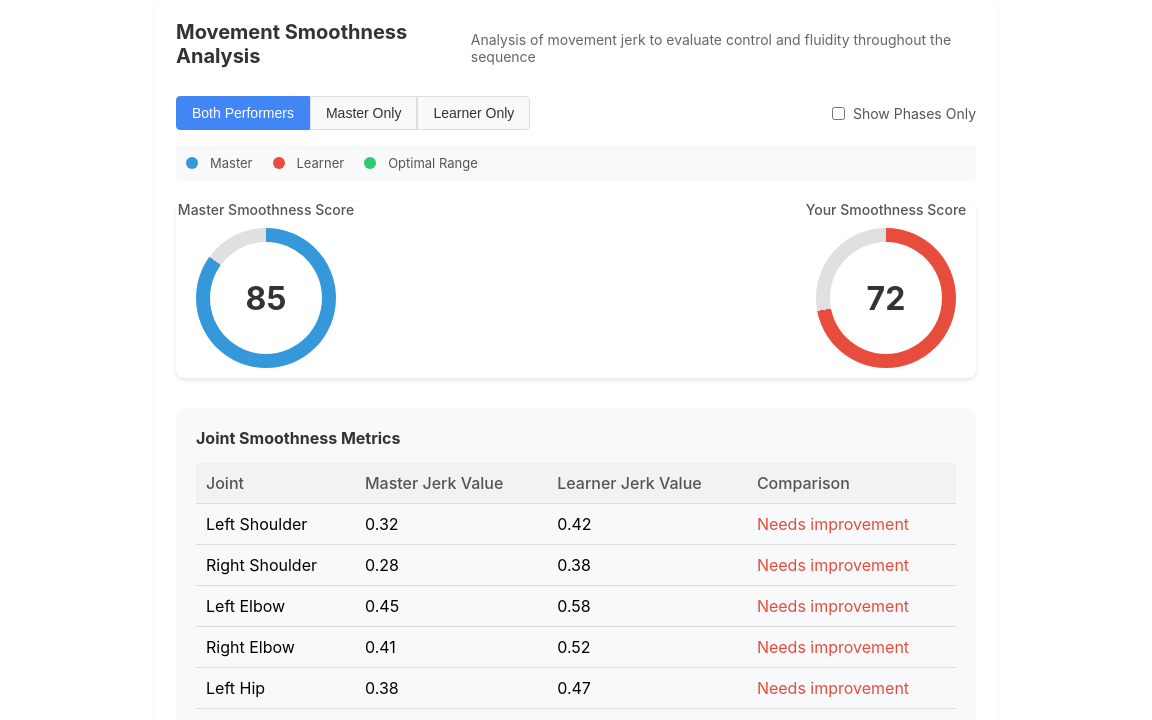
Test: SmoothnessChart Component › Show Phases Only Toggle › show phases only mode hides gauges and metrics
This screenshot has width=1152, height=720.
Expected: the heading "Master Smoothness Score" is shown, [178,201,354,218]
Expected: the heading "Joint Smoothness Metrics" is shown, [196,428,400,448]
Toggle phases only
Click the checkbox labelled "Show Phases Only" at (838, 113), box [832,106,845,120]
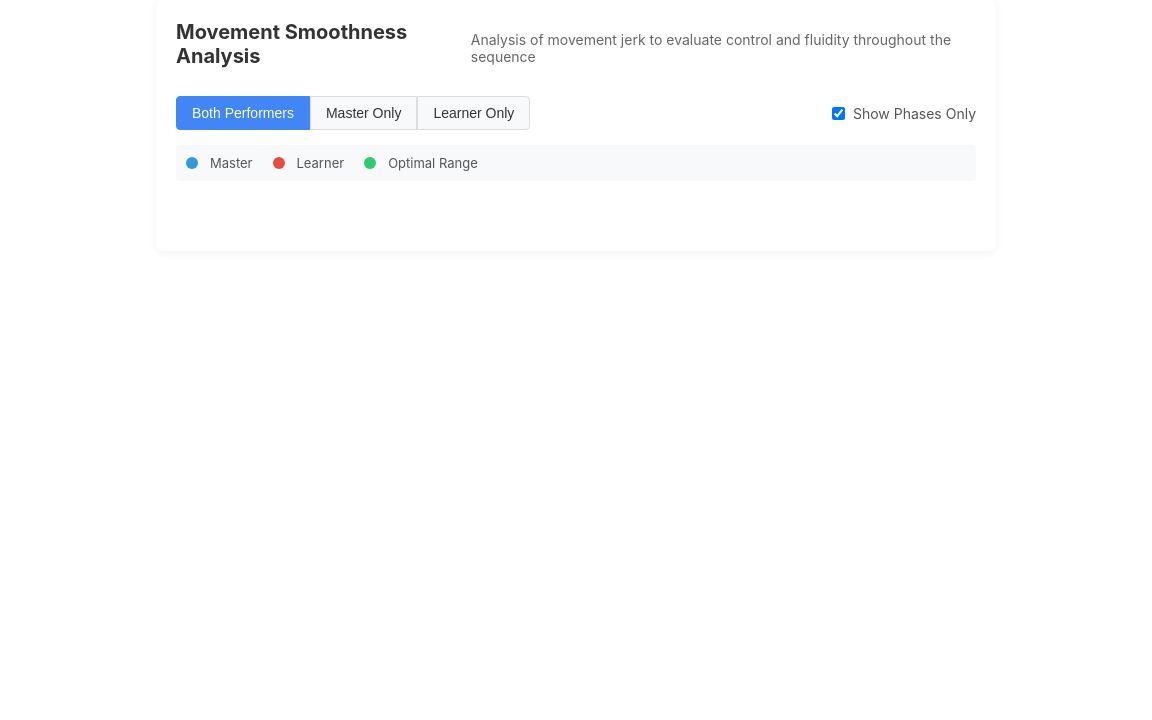
Now the heading "Master Smoothness Score" is gone
Now the heading "Joint Smoothness Metrics" is gone
